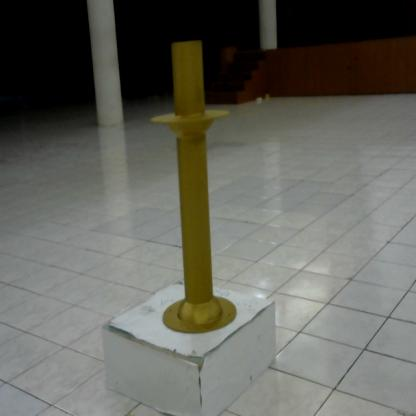pole: (148, 32, 244, 340)
